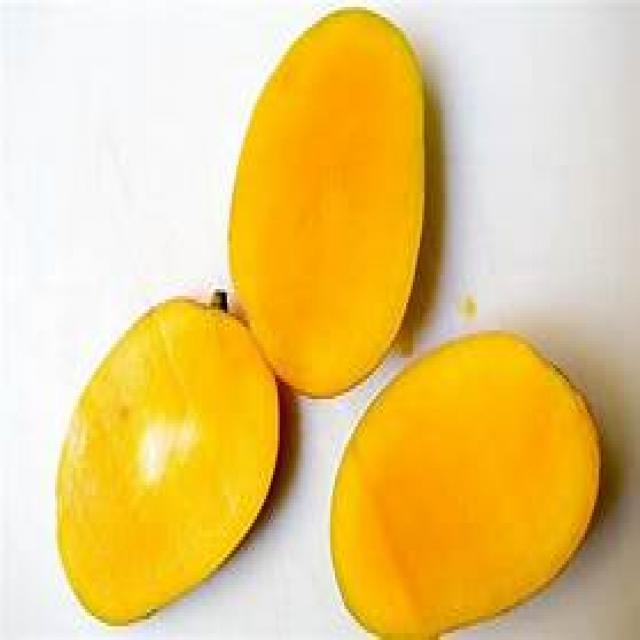mango: (378, 322, 607, 640), (234, 7, 428, 316), (54, 292, 230, 629)
